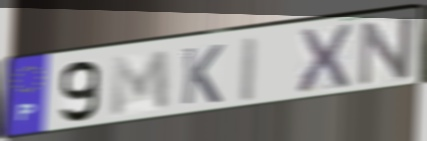9: (59, 58, 102, 124)
I: (236, 33, 262, 105)
K: (179, 42, 226, 107)
M: (109, 47, 172, 120)
N: (355, 13, 417, 90)
X: (295, 21, 354, 97)
